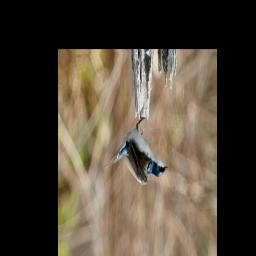Swallow: (104, 114, 169, 189)
